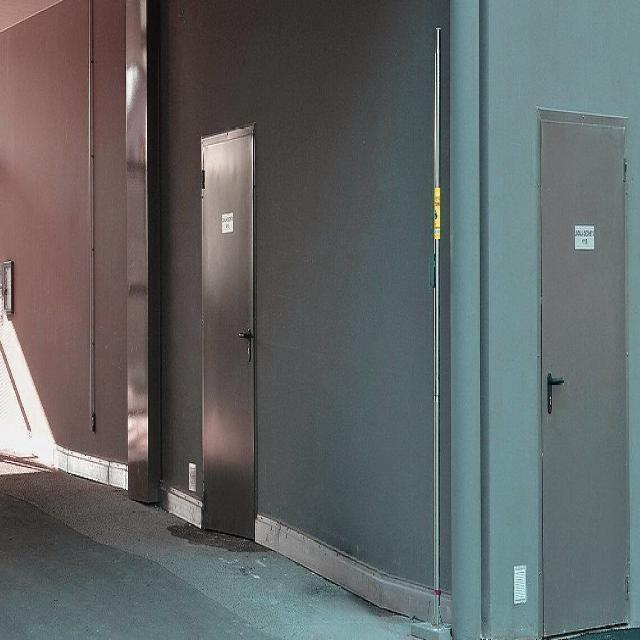door: (530, 91, 630, 640), (200, 123, 256, 540)
